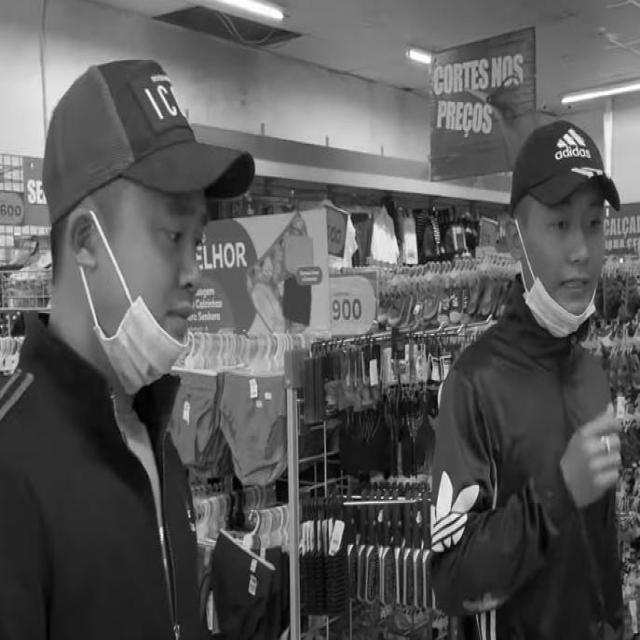hairnet: (103, 197, 206, 393), (524, 204, 598, 333)
